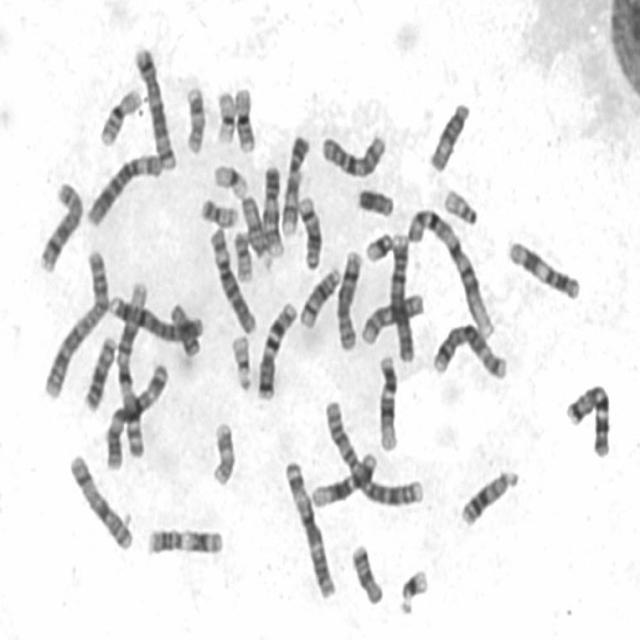A1: (405, 207, 497, 343), (115, 279, 146, 459)
A2: (324, 397, 424, 508), (41, 250, 111, 403)
A3: (282, 458, 338, 601), (106, 362, 170, 471)
B4: (107, 293, 206, 346), (390, 231, 417, 363)
B5: (132, 46, 178, 170), (431, 322, 508, 382)
C10: (359, 291, 423, 347), (320, 130, 388, 180)
C11: (505, 237, 586, 305), (146, 524, 228, 560)
C12: (312, 452, 378, 510), (376, 356, 400, 452)
C6: (86, 154, 164, 229), (207, 225, 256, 333)
C7: (561, 372, 615, 463), (255, 302, 298, 402)
C8: (35, 181, 84, 274), (336, 250, 363, 351)
C9: (280, 134, 310, 241), (262, 165, 286, 257)
D13: (460, 471, 520, 528), (83, 335, 120, 412)
D14: (299, 268, 343, 330), (294, 194, 323, 270)
D15: (427, 103, 470, 173), (239, 194, 273, 271)
E16: (98, 85, 143, 148), (234, 86, 256, 153)
E17: (206, 424, 240, 487), (185, 86, 206, 156)
E18: (346, 541, 384, 607), (168, 302, 200, 356)
F19: (211, 163, 248, 200), (213, 91, 236, 147)
F20: (201, 197, 238, 229), (234, 230, 254, 283)
G21: (397, 566, 429, 616), (363, 230, 393, 264)
G22: (228, 332, 255, 394), (442, 189, 478, 227)
X: (66, 454, 135, 555)
Y: (356, 188, 395, 217)
